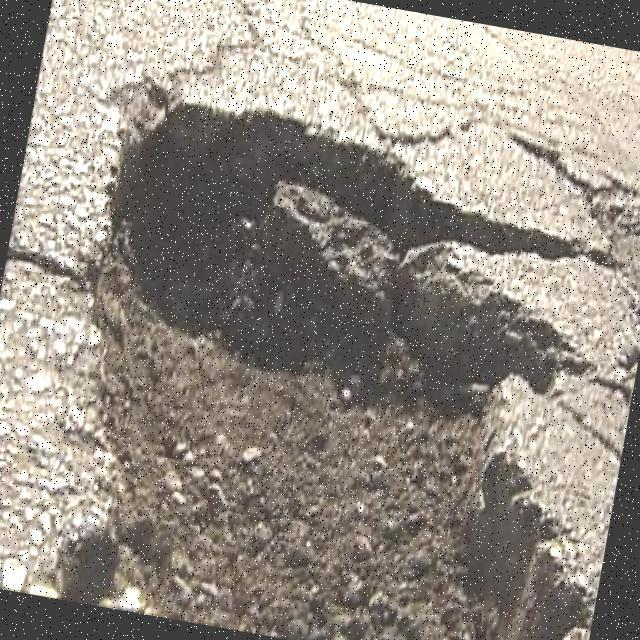Pothole: (44, 80, 622, 640)
